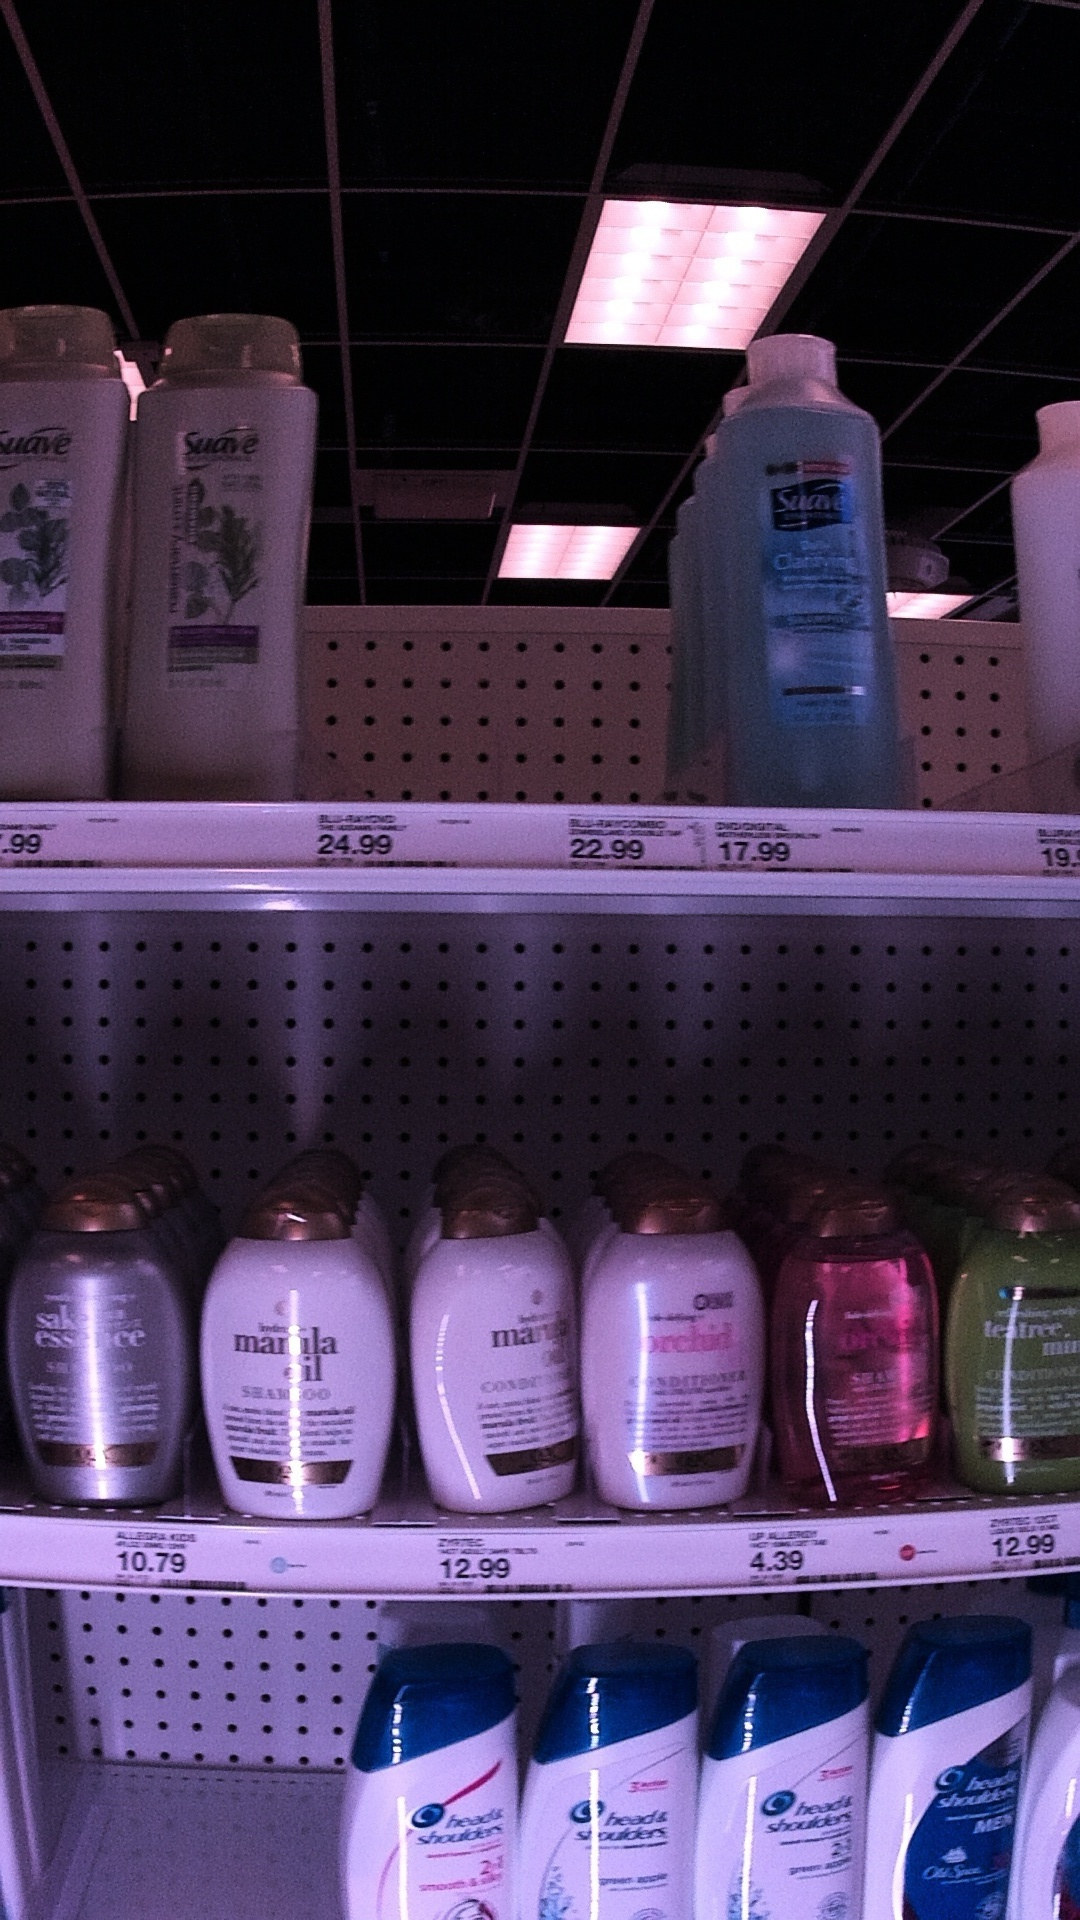ptag: (553, 800, 709, 891), (301, 808, 475, 884), (425, 1528, 575, 1606), (111, 1515, 255, 1596), (715, 815, 858, 884), (744, 1524, 891, 1589), (1, 802, 131, 874), (980, 1509, 1080, 1580)
